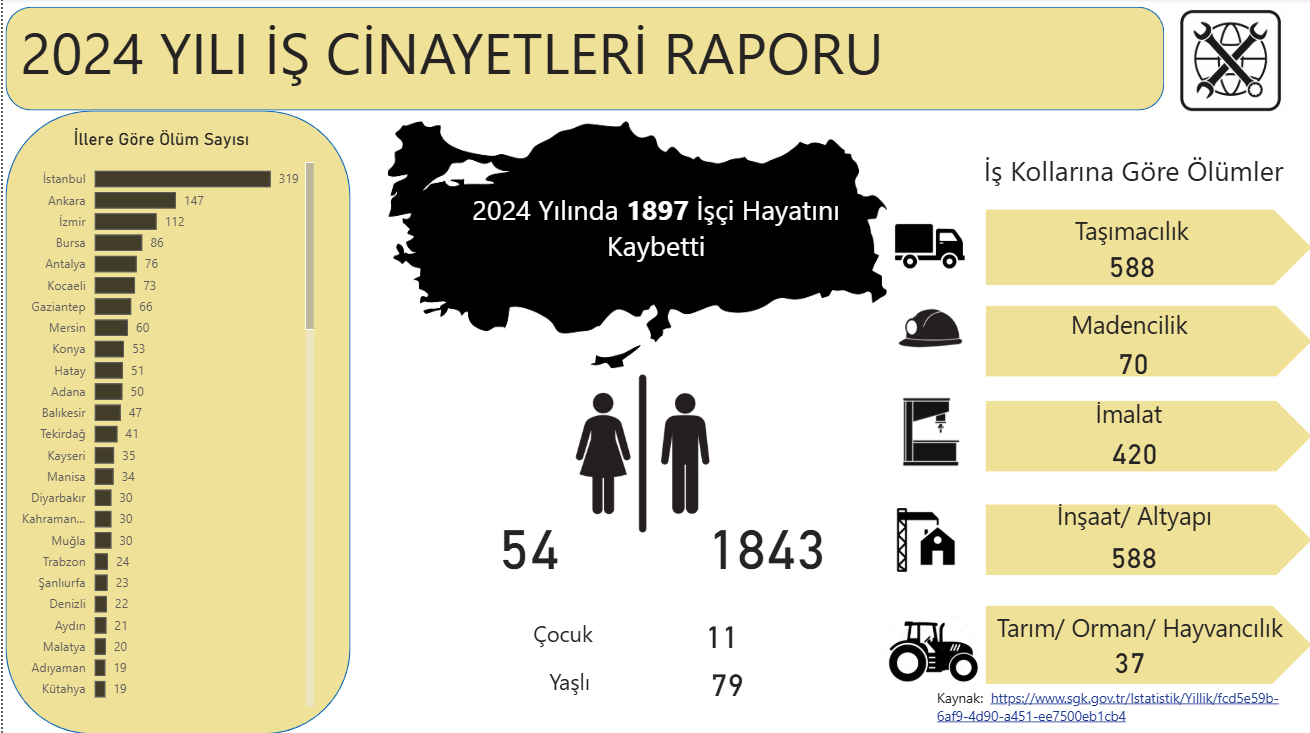

What the dashboard file says about the page in this screenshot:
{"tool":"powerbi","page":{"name":"Rapor","canvas":[1280,720],"ordinal":0},"visuals":[{"type":"shape","box":[2.4,8.6,1133.6,101.5],"z":0},{"type":"shape","box":[961.1,206.7,319.2,74.6],"z":1000},{"type":"image","box":[846.2,200.5,114.9,80.7],"z":2000},{"type":"image","box":[846.2,275.1,114.9,95.4],"z":3000},{"type":"image","box":[846.2,385.2,123.5,78.3],"z":4000},{"type":"image","box":[846.2,487.9,111.3,84.4],"z":5000},{"type":"shape","box":[961.1,300.8,319.2,69.7],"z":6000},{"type":"shape","box":[961.1,495.2,319.2,69.7],"z":7000},{"type":"shape","box":[961.1,393.8,319.2,69.7],"z":8000},{"type":"card","fields":{"Values":["Sum(Sektör Hesaplı.İnşaat/Altyapı)"]},"box":[1056.5,227.4,95.4,68.5],"z":9000},{"type":"textbox","box":[994.2,206.7,220.1,61.1],"z":10000},{"type":"card","fields":{"Values":["Sum(Sektör Hesaplı.Madencilik)"]},"box":[1060.2,320.4,91.7,73.4],"z":11000},{"type":"image","box":[393.8,342.4,463.5,206.7],"z":12000},{"type":"card","fields":{"Values":["Sum(Sektör.Erkek)"]},"box":[666.4,506.3,161.4,74.6],"z":13000},{"type":"textbox","box":[991.7,298.4,220.1,61.1],"z":14000},{"type":"card","fields":{"Values":["Sum(Sektör Hesaplı.İmalat)"]},"box":[1078.5,418.2,57.5,52.6],"z":15000},{"type":"textbox","box":[1008.8,385.2,184.6,64.8],"z":16000},{"type":"card","fields":{"Values":["Sum(Sektör Hesaplı.İnşaat/Altyapı)"]},"box":[1062.6,511.1,86.8,69.7],"z":17000},{"type":"textbox","box":[991.7,485.5,229.9,61.1],"z":18000},{"type":"card","fields":{"Values":["Sum(Cinsiyet Hesaplı.Kadın)"]},"box":[442.7,506.3,143.1,74.6],"z":19000},{"type":"textbox","box":[12.2,8.6,896.3,91.7],"z":20000},{"type":"image","box":[371.7,110.1,497.7,261.7],"z":21000},{"type":"textbox","box":[947.7,145.5,316.7,55],"z":22000},{"type":"shape","box":[961.1,594.3,319.2,77],"z":23000},{"type":"textbox","box":[432.9,183.4,412.1,107.6],"z":24000},{"type":"card","fields":{"Values":["Sum(Sektör Hesaplı.Tarım/Orman/Hayvancılık)"]},"box":[1035.7,618.8,133.3,61.1],"z":25000},{"type":"textbox","box":[966,594.3,292.3,46.5],"z":26000},{"type":"image","box":[1121.3,0,159,122.3],"z":27000},{"type":"image","box":[857.2,594.3,102.7,85.6],"z":28000},{"type":"textbox","box":[442.7,601.6,210.3,69.7],"z":29000},{"type":"card","fields":{"Values":["Sum(Yaş Hesaplı.Çocuk)"]},"box":[653,598,100.3,51.4],"z":30000},{"type":"textbox","box":[470.8,649.3,155.3,63.6],"z":31000},{"type":"card","fields":{"Values":["Sum(Yaş Hesaplı.Yaşlı)"]},"box":[626.1,633.4,165.1,73.4],"z":32000},{"type":"shape","box":[2.4,110.1,337.5,610.2],"z":33000},{"type":"barChart","title":"İllere Göre Ölüm Sayısı","fields":{"Y":["Sum(İl.Toplam)"],"Category":["İl.İL"]},"box":[0,127.2,309.4,571.1],"z":34000},{"type":"textbox","box":[908.6,670.1,371.7,50.1],"z":35000}]}

Visuals, with their boxes in screenshot pixels (x1, y1, x2, y2), scaled from the page's 1280x720 canvas onto the 1310x733 screenshot:
shape: region(2, 9, 1163, 112)
shape: region(984, 210, 1309, 286)
image: region(866, 204, 984, 286)
image: region(866, 280, 984, 377)
image: region(866, 392, 992, 472)
image: region(866, 497, 980, 583)
shape: region(984, 306, 1309, 377)
shape: region(984, 504, 1309, 575)
shape: region(984, 401, 1309, 472)
card - Sum(Sektör Hesaplı.İnşaat/Altyapı): region(1081, 232, 1179, 301)
textbox: region(1018, 210, 1243, 273)
card - Sum(Sektör Hesaplı.Madencilik): region(1085, 326, 1179, 401)
image: region(403, 349, 877, 559)
card - Sum(Sektör.Erkek): region(682, 515, 847, 591)
textbox: region(1015, 304, 1240, 366)
card - Sum(Sektör Hesaplı.İmalat): region(1104, 426, 1163, 479)
textbox: region(1032, 392, 1221, 458)
card - Sum(Sektör Hesaplı.İnşaat/Altyapı): region(1088, 520, 1176, 591)
textbox: region(1015, 494, 1250, 556)
card - Sum(Cinsiyet Hesaplı.Kadın): region(453, 515, 600, 591)
textbox: region(12, 9, 930, 102)
image: region(380, 112, 890, 379)
textbox: region(970, 148, 1294, 204)
shape: region(984, 605, 1309, 683)
textbox: region(443, 187, 865, 296)
card - Sum(Sektör Hesaplı.Tarım/Orman/Hayvancılık): region(1060, 630, 1196, 692)
textbox: region(989, 605, 1288, 652)
image: region(1148, 0, 1309, 125)
image: region(877, 605, 982, 692)
textbox: region(453, 612, 668, 683)
card - Sum(Yaş Hesaplı.Çocuk): region(668, 609, 771, 661)
textbox: region(482, 661, 641, 726)
card - Sum(Yaş Hesaplı.Yaşlı): region(641, 645, 810, 720)
shape: region(2, 112, 348, 732)
"İllere Göre Ölüm Sayısı" barChart: region(0, 129, 317, 711)
textbox: region(930, 682, 1309, 732)
